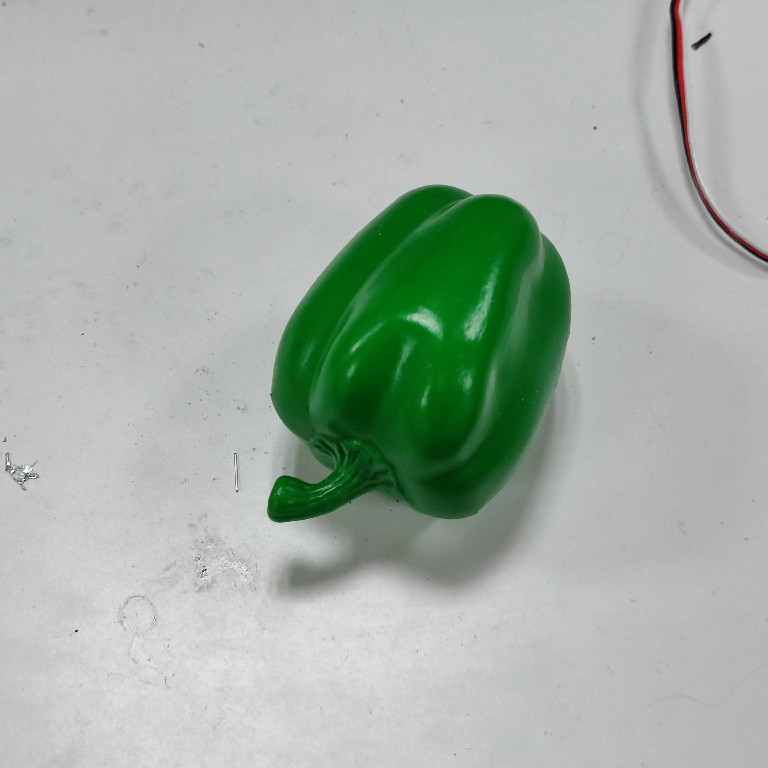fruit_pepper: (255, 176, 577, 531)
